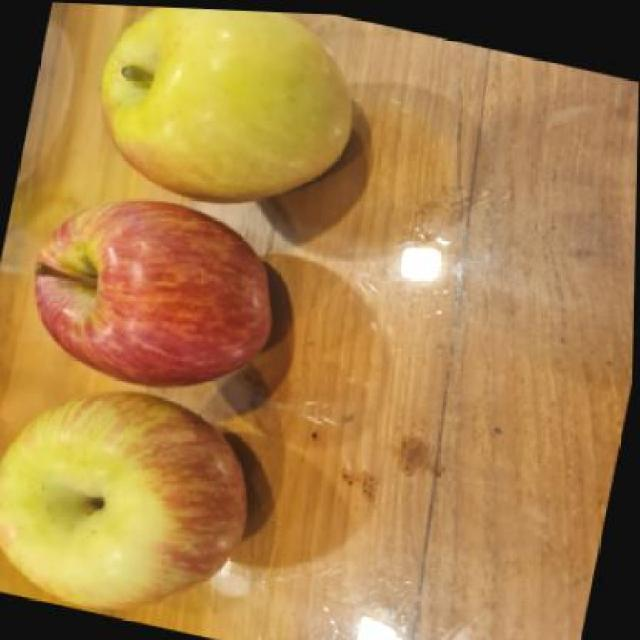Fresh Apple: (3, 390, 255, 627), (84, 3, 369, 202), (25, 198, 278, 386)
